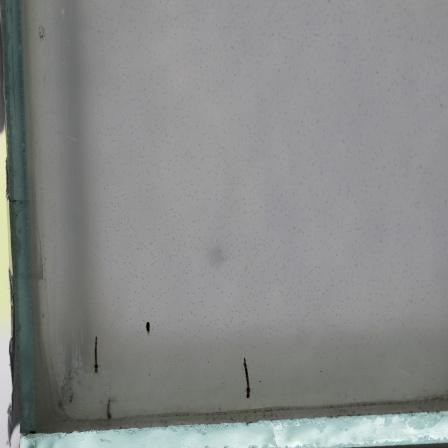Jentik-Nyamuk: (88, 332, 105, 377), (240, 353, 255, 402), (103, 396, 115, 423), (142, 316, 156, 338)
